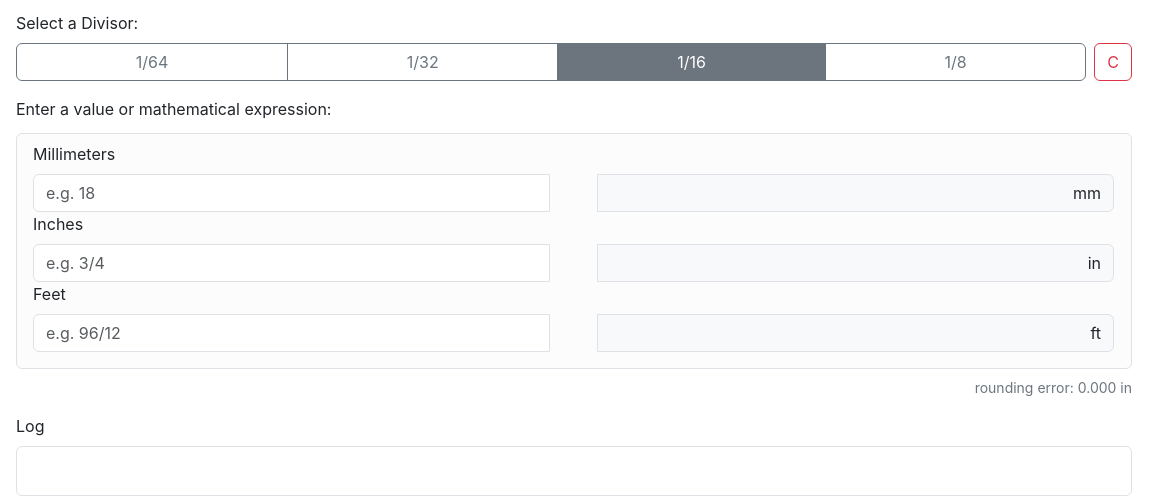
[Req 14] 12/4 in inches evaluates to 3 via = button
In the field labelled "Inches": [292, 263] box [33,244,550,282], type "12/4"
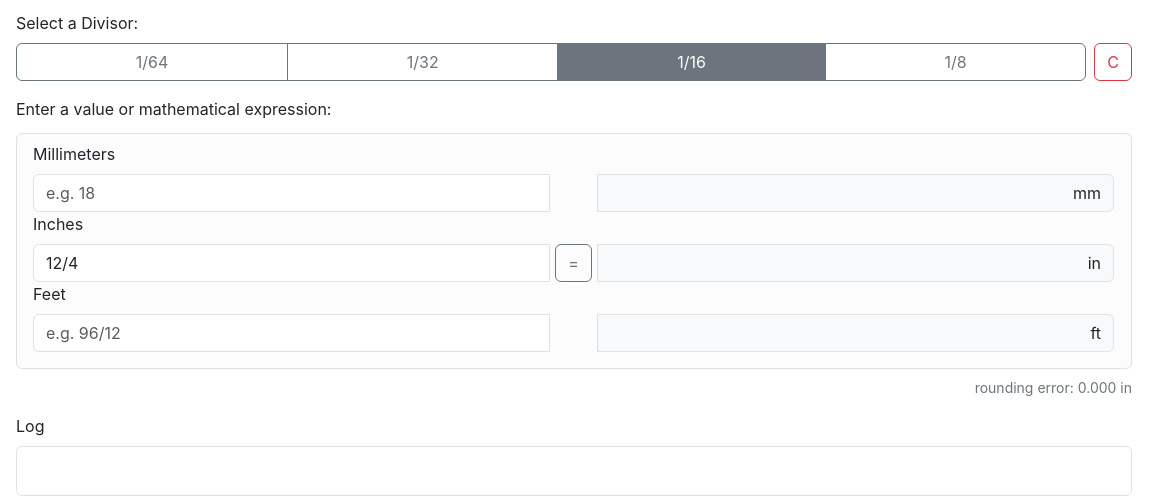
Click the button "=": [574, 263] box [555,244,592,282]
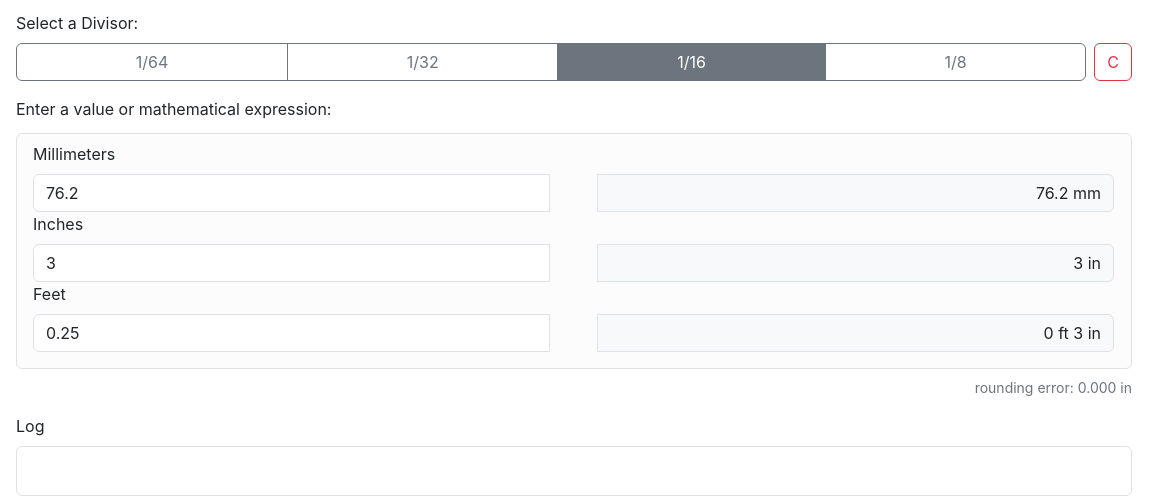
expect the field labelled "Inches" holds "3": met, box [33,244,550,282]
expect the text "3 in" is shown: met, box [597,244,1114,282]
